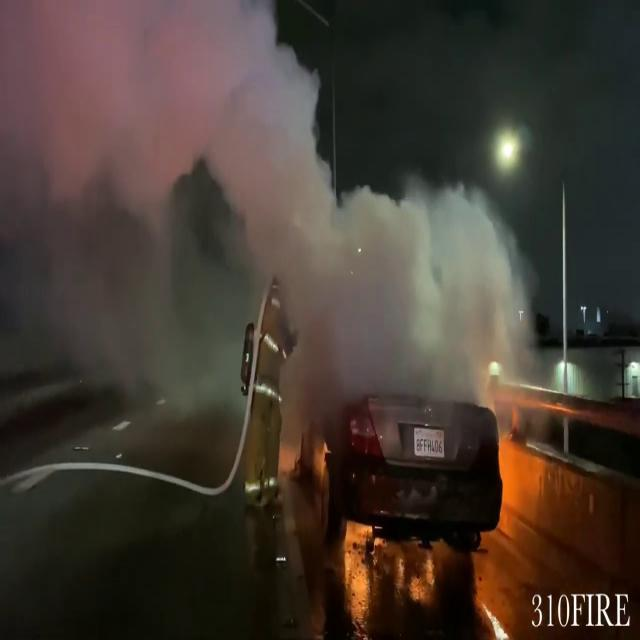Smoke: (0, 0, 536, 428), (0, 0, 266, 431)
